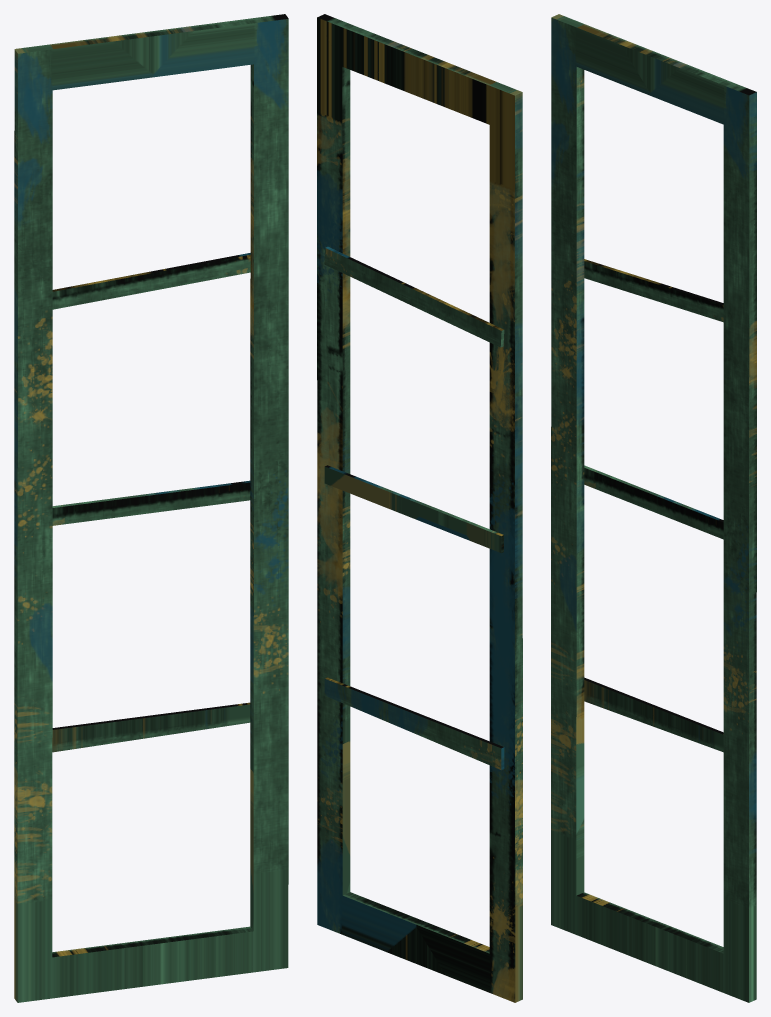
The model's file is rama okna1.obj.
The picture shows the model from 3 angles, left to right: view 1: azimuth 30°, elevation 25°; view 2: azimuth 150°, elevation 25°; view 3: azimuth 330°, elevation 25°; orthographic projection. The views are drawn at different scales.
Parts seen in each view (by area): view 1: Cube.043; view 2: Cube.043; view 3: Cube.043.
Boxes of the visible parts, <box> form: Cube.043: <box>14,14,288,1002</box>; Cube.043: <box>317,14,522,1002</box>; Cube.043: <box>551,14,756,1002</box>.
Size of the model in its own units: 0.3475 by 1.3 by 0.0949.
Materials: 1 (1 with a texture image).
